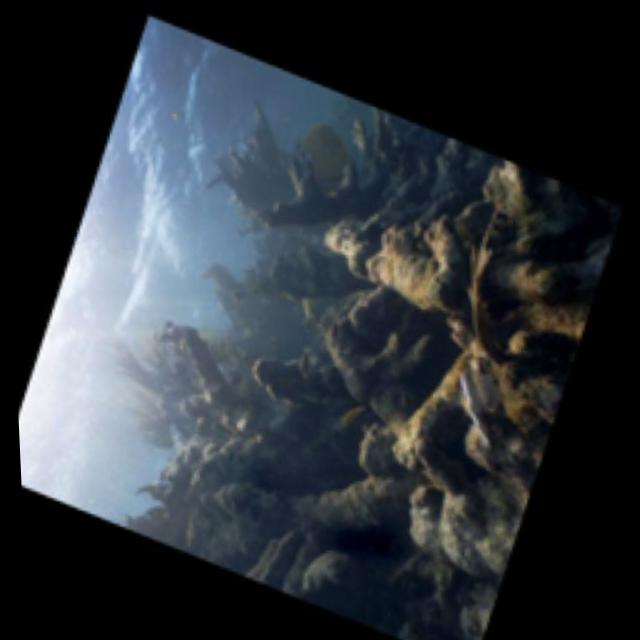Dead Coral: (246, 101, 566, 398), (96, 278, 382, 576), (303, 258, 565, 576)
